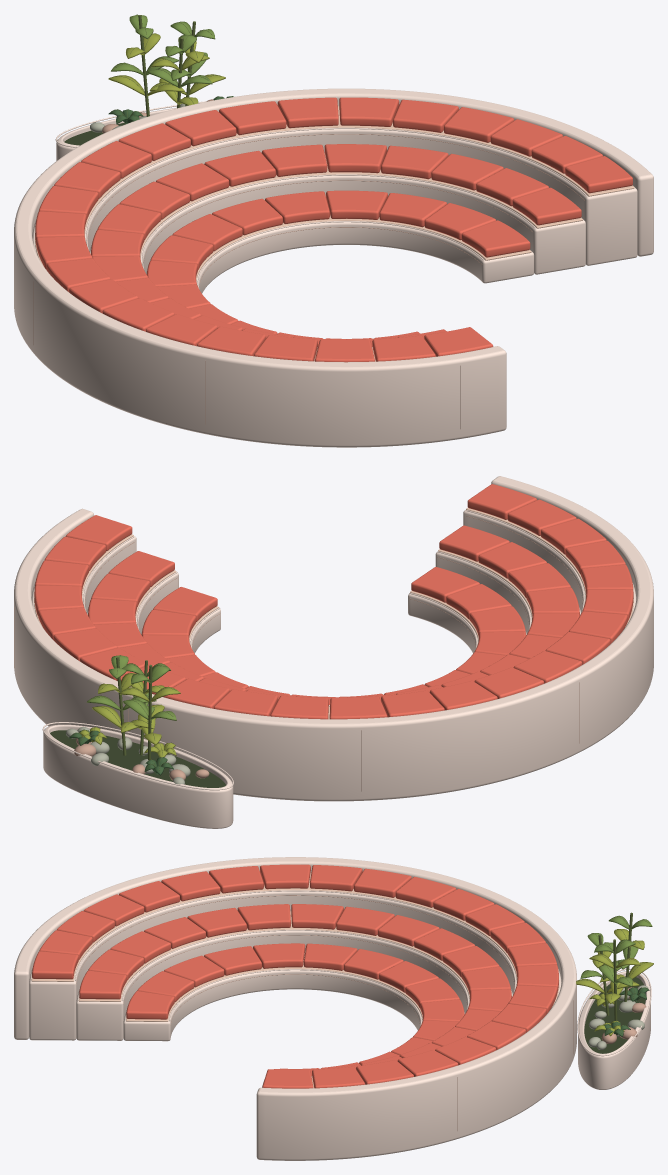
File: 01_tiered_forum.glb
The picture shows the model from 3 angles, top to bottom: view 1: azimuth 30°, elevation 25°; view 2: azimuth 150°, elevation 25°; view 3: azimuth 270°, elevation 25°; orthographic projection. The views are drawn at different scales.
Parts seen in each view (by area): view 1: Forum / Coral tier cushions / Coral / Upholstery, Forum / Perimeter shell / Warm Ivory / Ceramic, Forum / Tiered seating / Warm Ivory / Ceramic, Forum / Tiered seating / Warm Beige / Inlay, Planting / Leaves / Natural sage foliage, Planting / Leaves / Natural lime foliage, Forum / Tiered seating / Soft Taupe / Recess and stone, Planting / Stems / Natural olive stems, Planting / Ceramic planters / Warm Ivory / Ceramic; view 2: Forum / Perimeter shell / Warm Ivory / Ceramic, Forum / Coral tier cushions / Coral / Upholstery, Planting / Ceramic planters / Warm Ivory / Ceramic, Forum / Tiered seating / Warm Ivory / Ceramic, Planting / Leaves / Natural lime foliage, Planting / Soil / Natural dark soil, Forum / Tiered seating / Warm Beige / Inlay, Planting / Leaves / Natural sage foliage, Planting / Stems / Natural olive stems, Planting / River stones / Natural pale river pebble, Planting / River stones / Soft Taupe / Recess and stone, Planting / Leaves / Natural deep green foliage; view 3: Forum / Coral tier cushions / Coral / Upholstery, Forum / Perimeter shell / Warm Ivory / Ceramic, Forum / Tiered seating / Warm Ivory / Ceramic, Forum / Tiered seating / Warm Beige / Inlay, Planting / Ceramic planters / Warm Ivory / Ceramic, Planting / Leaves / Natural lime foliage, Planting / Leaves / Natural sage foliage, Planting / Soil / Natural dark soil, Forum / Tiered seating / Soft Taupe / Recess and stone, Planting / Stems / Natural olive stems, Planting / River stones / Natural pale river pebble, Planting / Leaves / Natural deep green foliage.
Part boxes in pixels (box(x1,y1,x2,y2)): Forum / Coral tier cushions / Coral / Upholstery: box(35, 97, 632, 362); Forum / Perimeter shell / Warm Ivory / Ceramic: box(14, 88, 653, 447); Forum / Tiered seating / Warm Ivory / Ceramic: box(32, 127, 637, 347); Forum / Tiered seating / Warm Beige / Inlay: box(35, 106, 634, 361); Planting / Leaves / Natural sage foliage: box(111, 14, 215, 87); Planting / Leaves / Natural lime foliage: box(108, 33, 225, 105); Forum / Tiered seating / Soft Taupe / Recess and stone: box(87, 134, 584, 286); Planting / Stems / Natural olive stems: box(111, 14, 232, 119); Planting / Ceramic planters / Warm Ivory / Ceramic: box(55, 101, 205, 160); Forum / Perimeter shell / Warm Ivory / Ceramic: box(14, 476, 653, 801); Forum / Coral tier cushions / Coral / Upholstery: box(34, 484, 633, 719); Planting / Ceramic planters / Warm Ivory / Ceramic: box(42, 722, 233, 828); Forum / Tiered seating / Warm Ivory / Ceramic: box(31, 510, 636, 706); Planting / Leaves / Natural lime foliage: box(79, 673, 180, 757); Planting / Soil / Natural dark soil: box(50, 730, 225, 787); Forum / Tiered seating / Warm Beige / Inlay: box(34, 508, 633, 719); Planting / Leaves / Natural sage foliage: box(86, 655, 176, 720); Planting / Stems / Natural olive stems: box(71, 655, 176, 770); Planting / River stones / Natural pale river pebble: box(66, 726, 190, 784); Planting / River stones / Soft Taupe / Recess and stone: box(74, 738, 209, 780); Planting / Leaves / Natural deep green foliage: box(69, 729, 173, 775); Forum / Coral tier cushions / Coral / Upholstery: box(32, 864, 558, 1088); Forum / Perimeter shell / Warm Ivory / Ceramic: box(14, 857, 576, 1160); Forum / Tiered seating / Warm Ivory / Ceramic: box(29, 890, 561, 1087); Forum / Tiered seating / Warm Beige / Inlay: box(31, 872, 559, 1088); Planting / Ceramic planters / Warm Ivory / Ceramic: box(577, 968, 651, 1089); Planting / Leaves / Natural lime foliage: box(576, 929, 653, 1036); Planting / Leaves / Natural sage foliage: box(580, 915, 652, 986); Planting / Soil / Natural dark soil: box(584, 976, 645, 1053); Forum / Tiered seating / Soft Taupe / Recess and stone: box(76, 895, 514, 1026); Planting / Stems / Natural olive stems: box(576, 912, 650, 1031); Planting / River stones / Natural pale river pebble: box(588, 985, 648, 1049); Planting / Leaves / Natural deep green foliage: box(604, 987, 649, 1036).
Bounding box in the file's own units: 8.12 × 2.01 × 9.23.
